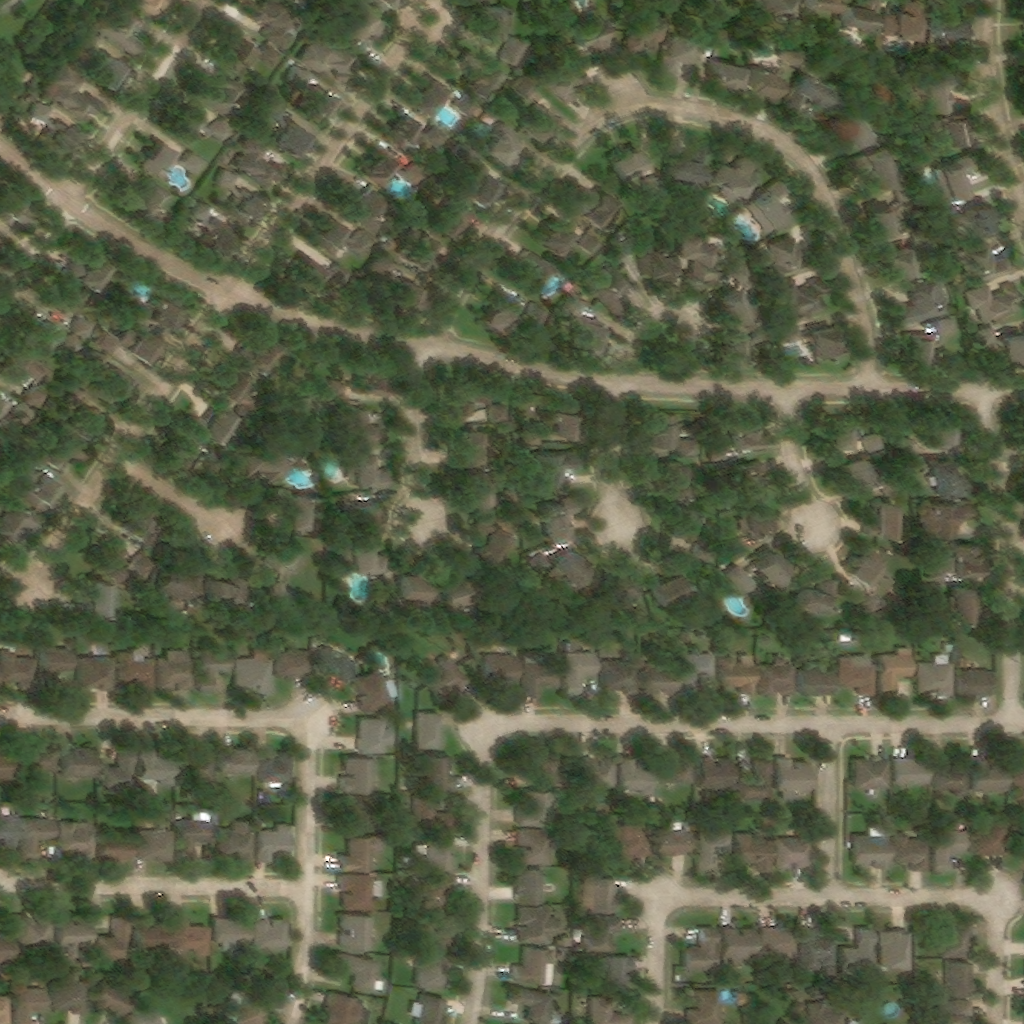no_damage: (30, 65, 110, 168), (299, 30, 373, 100), (215, 132, 290, 195), (351, 255, 427, 313), (727, 536, 794, 595), (160, 99, 235, 149), (757, 235, 827, 288), (211, 25, 285, 75), (309, 212, 378, 263), (510, 249, 586, 295), (143, 133, 209, 183), (288, 65, 341, 127), (566, 179, 621, 236), (953, 240, 1015, 290), (247, 0, 304, 53), (714, 261, 762, 323), (74, 30, 127, 86), (337, 187, 392, 240), (917, 110, 969, 166), (192, 200, 239, 261), (363, 144, 425, 190), (265, 101, 314, 159), (485, 292, 545, 339), (123, 286, 194, 325), (896, 278, 950, 329), (596, 820, 652, 869), (452, 377, 509, 425), (333, 0, 391, 47), (617, 231, 676, 277), (828, 107, 880, 158), (97, 324, 162, 364), (774, 277, 831, 322), (94, 5, 143, 57), (646, 410, 699, 458), (158, 557, 201, 614), (584, 264, 634, 313), (278, 247, 326, 298), (663, 145, 709, 197), (746, 180, 791, 233), (908, 316, 962, 360), (242, 440, 296, 484), (966, 285, 1022, 327), (203, 554, 249, 605), (846, 148, 899, 192), (189, 398, 239, 444), (928, 541, 981, 584), (949, 195, 998, 241), (341, 534, 391, 579), (539, 55, 581, 108), (130, 180, 177, 227), (788, 69, 836, 115), (710, 155, 760, 199), (238, 329, 282, 379), (921, 501, 974, 542), (881, 2, 924, 52), (708, 25, 743, 86), (25, 312, 67, 362), (920, 921, 975, 959), (877, 235, 922, 281), (480, 122, 526, 167), (650, 556, 692, 605), (972, 325, 1022, 366), (783, 324, 841, 359), (355, 672, 400, 717), (423, 657, 468, 702), (434, 193, 477, 240), (69, 249, 117, 291), (938, 153, 979, 202), (224, 986, 278, 1023), (139, 745, 176, 799), (15, 460, 59, 505), (554, 546, 598, 591), (519, 754, 575, 789), (397, 913, 451, 949), (38, 427, 86, 467), (682, 235, 720, 285), (519, 99, 561, 144), (542, 495, 580, 544), (315, 647, 360, 688), (235, 648, 273, 696), (513, 946, 556, 988), (535, 211, 577, 254), (180, 813, 216, 863), (46, 278, 85, 324), (525, 648, 560, 699), (219, 817, 256, 865), (102, 746, 139, 794), (627, 9, 664, 57), (336, 954, 380, 994), (535, 450, 580, 489), (475, 513, 514, 558), (462, 50, 504, 91), (411, 74, 451, 117), (918, 654, 956, 699), (930, 458, 975, 496), (793, 576, 839, 613), (512, 989, 562, 1023), (831, 416, 881, 450), (565, 645, 598, 696), (3, 348, 45, 388), (917, 72, 956, 115), (216, 363, 259, 402), (620, 756, 658, 800), (880, 648, 914, 697), (94, 980, 136, 1019), (924, 2, 966, 41), (739, 500, 778, 542), (273, 489, 312, 531), (341, 875, 384, 913), (699, 821, 731, 872), (411, 873, 455, 910), (0, 184, 35, 230), (721, 929, 760, 970), (348, 448, 389, 487), (722, 656, 760, 698), (464, 165, 502, 207), (847, 549, 890, 586), (119, 500, 162, 537), (855, 828, 891, 872), (98, 916, 133, 961), (57, 917, 92, 962), (343, 835, 383, 874), (416, 831, 454, 872), (175, 917, 212, 959), (520, 908, 562, 945), (855, 759, 892, 801), (569, 11, 611, 48), (841, 929, 877, 972), (762, 656, 798, 699), (777, 758, 812, 802), (934, 831, 968, 876), (879, 928, 913, 973), (120, 648, 154, 693), (721, 326, 755, 371), (262, 530, 301, 569), (51, 978, 89, 1018), (257, 750, 294, 791), (157, 650, 194, 691), (607, 142, 648, 179), (739, 757, 774, 800), (22, 818, 56, 862), (584, 916, 623, 954), (345, 407, 384, 445), (840, 657, 877, 697), (474, 3, 511, 43), (196, 651, 231, 693), (803, 929, 837, 972), (75, 574, 109, 617), (581, 875, 617, 915), (933, 759, 969, 799), (566, 298, 600, 340), (326, 992, 372, 1023), (686, 928, 718, 972), (842, 456, 874, 500), (519, 830, 556, 868), (78, 657, 116, 694), (386, 105, 424, 142), (973, 757, 1009, 796), (258, 824, 293, 864), (894, 834, 929, 873), (422, 752, 456, 792), (453, 426, 487, 466), (413, 797, 454, 830), (343, 756, 376, 797), (61, 823, 98, 859), (738, 834, 774, 871), (403, 229, 439, 266), (18, 917, 56, 952), (663, 30, 702, 64), (417, 953, 450, 993), (355, 357, 388, 397), (180, 749, 217, 784), (895, 750, 930, 787), (800, 665, 838, 699), (441, 573, 474, 612), (343, 913, 375, 953), (519, 789, 551, 829), (761, 926, 801, 958), (361, 719, 395, 756), (95, 535, 128, 573), (94, 361, 126, 400), (867, 499, 898, 539), (135, 918, 170, 953), (699, 753, 734, 788), (62, 746, 98, 780), (139, 832, 176, 865), (581, 758, 618, 791), (29, 748, 60, 787), (839, 1, 878, 32), (604, 661, 638, 696), (746, 65, 781, 99), (926, 411, 955, 452), (124, 0, 173, 24), (352, 496, 382, 535), (254, 919, 289, 952), (342, 800, 375, 835), (602, 954, 635, 989), (690, 990, 725, 1023), (777, 840, 814, 871), (948, 580, 975, 622), (589, 998, 634, 1023), (655, 823, 691, 854), (400, 568, 436, 599), (734, 461, 763, 499), (416, 712, 444, 751), (973, 822, 1007, 854), (2, 652, 36, 684), (15, 988, 46, 1023), (412, 993, 448, 1023), (219, 747, 256, 776), (549, 398, 577, 436), (214, 916, 250, 945), (0, 497, 29, 533), (660, 758, 697, 786), (517, 868, 544, 906), (465, 470, 494, 505), (484, 657, 520, 685), (71, 399, 101, 432), (730, 414, 760, 447), (949, 961, 974, 1000), (666, 460, 690, 500), (959, 671, 992, 700), (277, 651, 315, 676), (681, 655, 719, 680), (645, 665, 680, 692), (867, 199, 895, 230), (504, 38, 530, 71), (670, 505, 695, 538), (777, 42, 806, 70), (937, 1001, 973, 1023), (43, 649, 74, 674), (579, 234, 608, 260), (101, 838, 135, 860), (425, 125, 453, 151), (809, 1003, 844, 1023), (881, 471, 907, 497), (856, 593, 883, 618), (0, 813, 18, 849), (74, 318, 99, 342), (455, 144, 479, 168), (134, 552, 158, 576), (457, 95, 480, 118), (790, 19, 811, 43), (131, 1007, 162, 1023), (801, 0, 838, 13), (643, 176, 662, 199), (0, 934, 14, 965), (704, 0, 724, 20), (897, 439, 917, 459), (329, 379, 349, 398), (0, 750, 13, 779), (1014, 759, 1022, 803), (0, 995, 12, 1023), (874, 613, 889, 626), (791, 990, 804, 1003), (166, 810, 177, 825), (811, 989, 824, 1001), (0, 393, 7, 411), (0, 0, 9, 8), (738, 977, 746, 986), (737, 994, 745, 1002)
